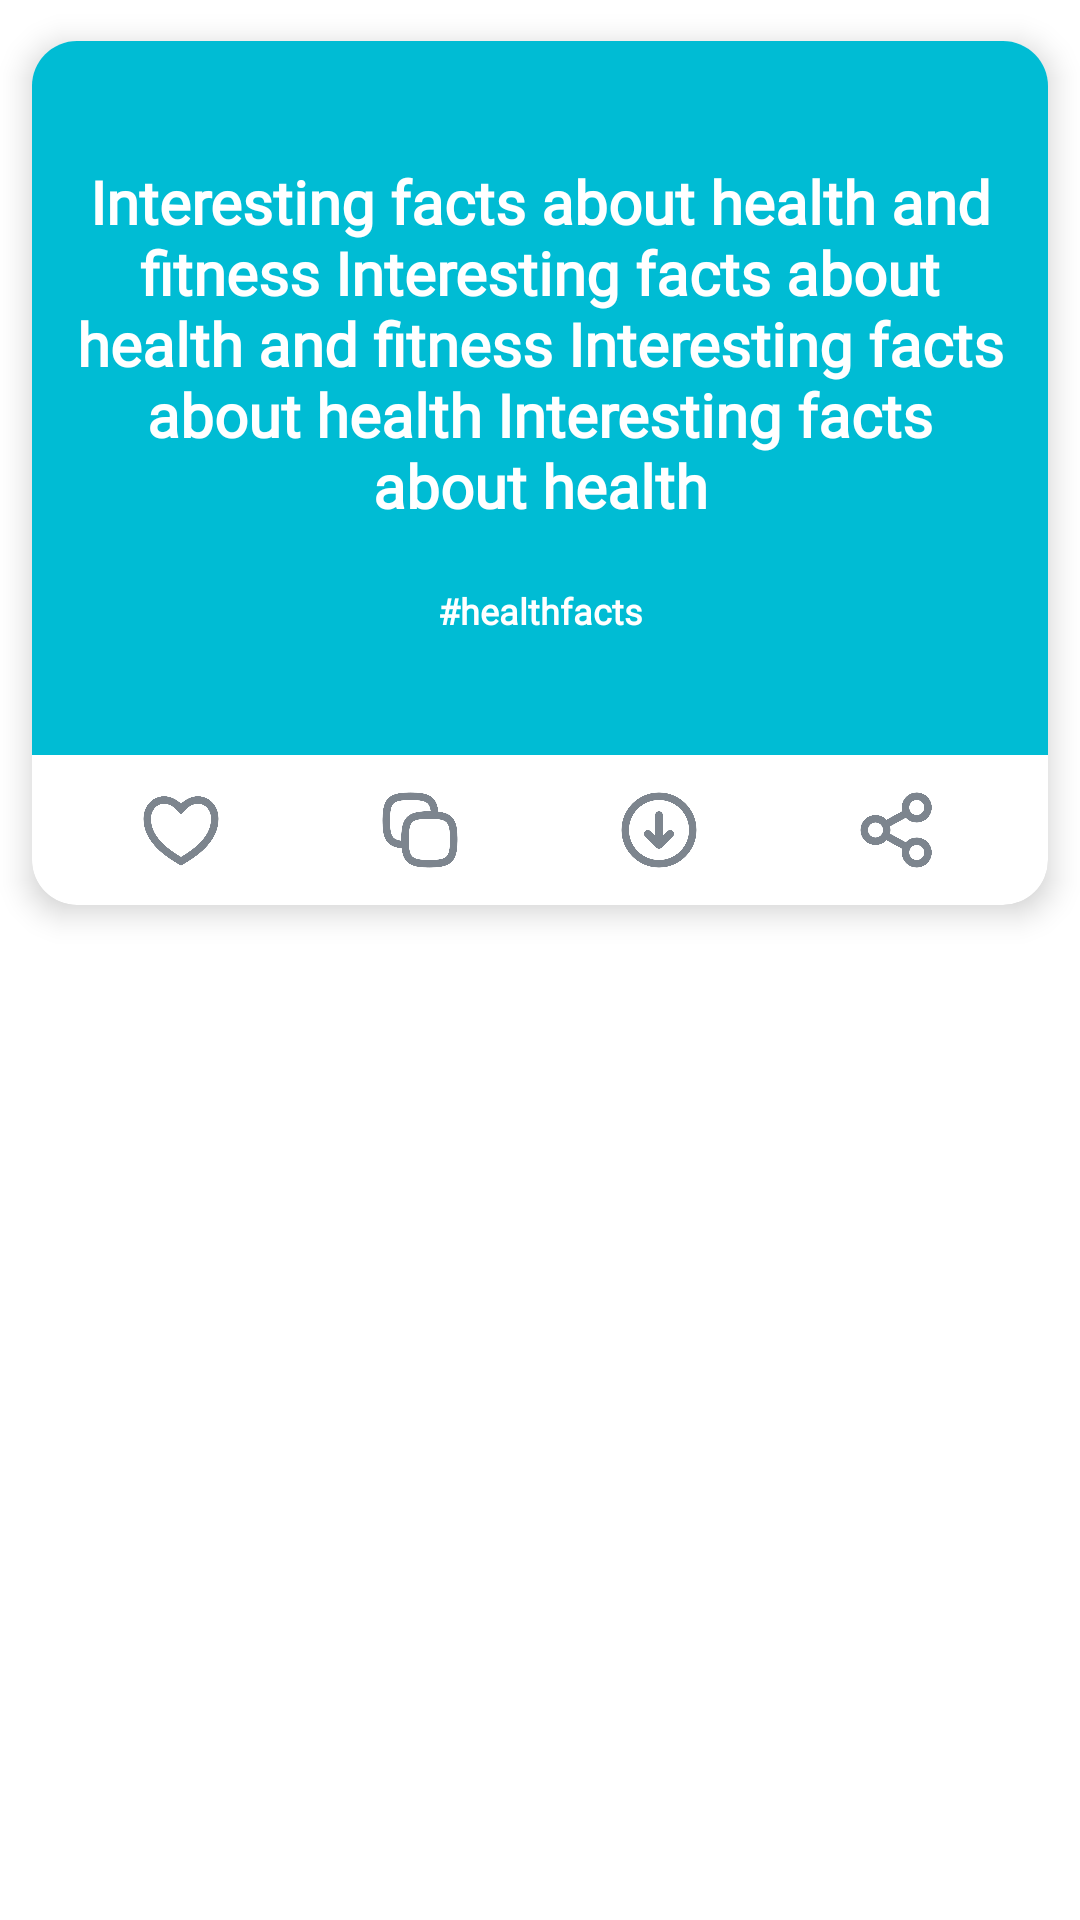

Screen size 1080 x 1920. Icon name, then its box in pixels as (x1, y1, x2, y2):
download: (621, 792, 697, 868)
heart: (143, 796, 219, 865)
share: (860, 792, 932, 868)
